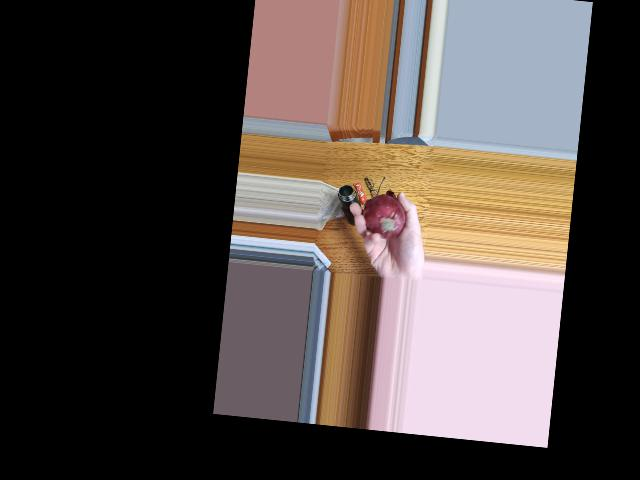onion: (367, 195, 408, 245)
